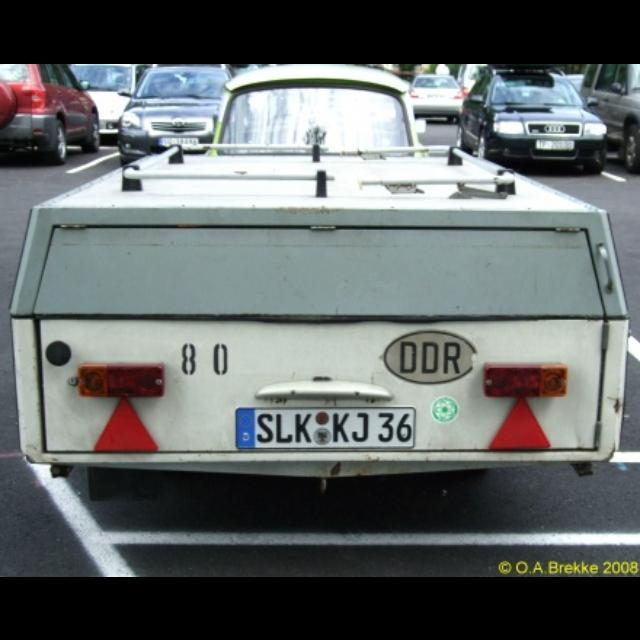license-plates: (235, 408, 416, 450)
